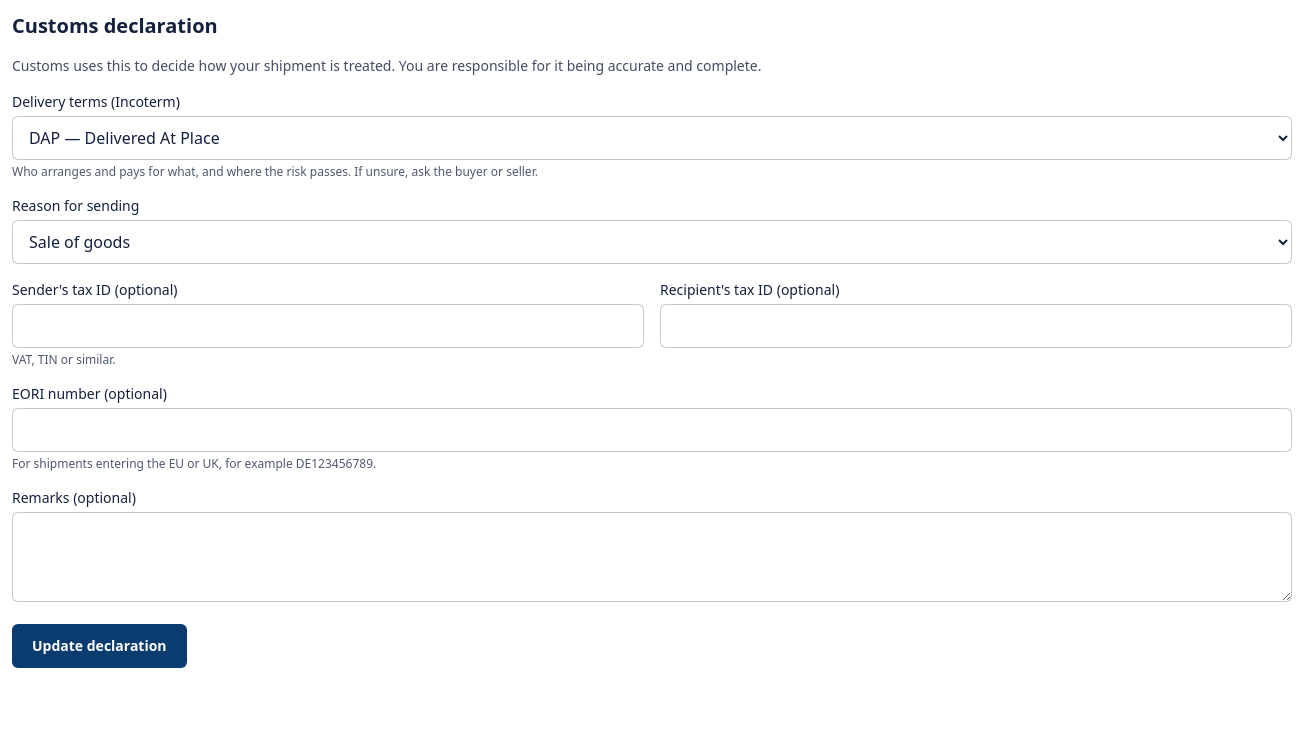
DeclarationForm › shows the API's field errors beside the field
What coordinates should you click on to do the following:
click the button "Update declaration"
I would click on:
 (99, 646)
Its box is [12, 624, 187, 668].
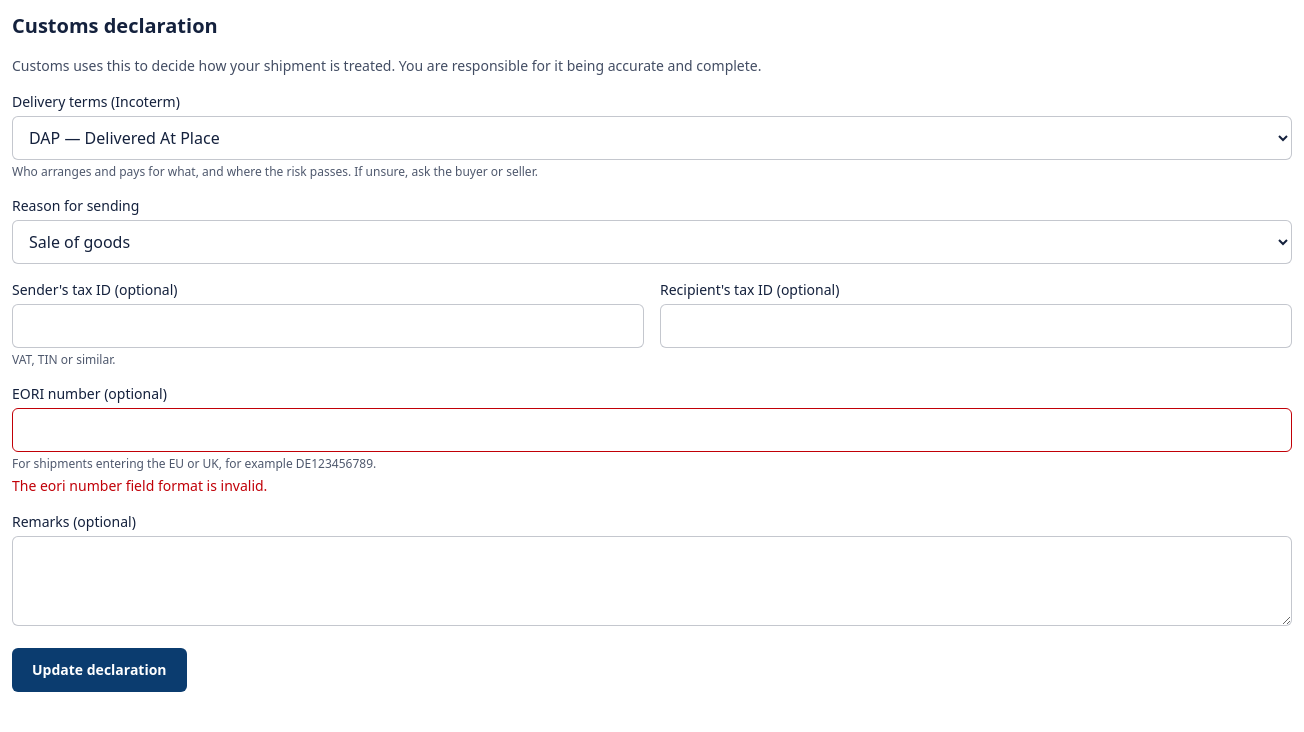
Result: the text "The eori number field format is invalid." is shown at [12, 476, 267, 495]
